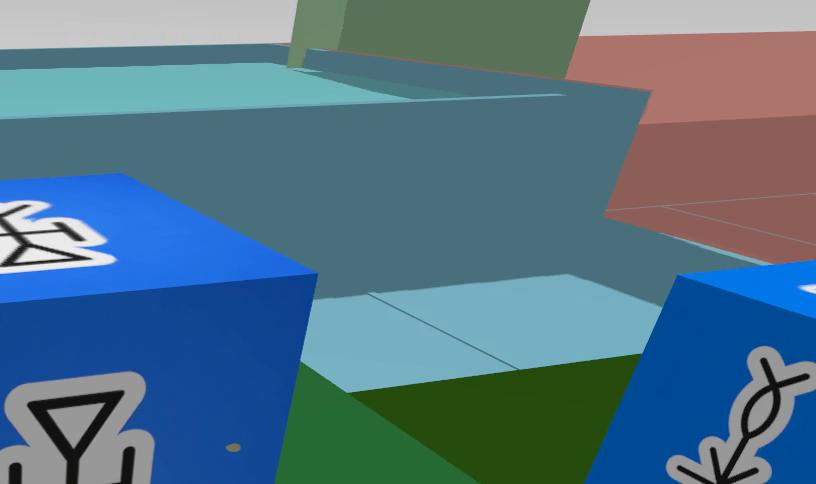KFS_REAL: (0, 174, 314, 484), (585, 261, 815, 484), (666, 346, 815, 484), (0, 371, 153, 484), (0, 202, 116, 274)
